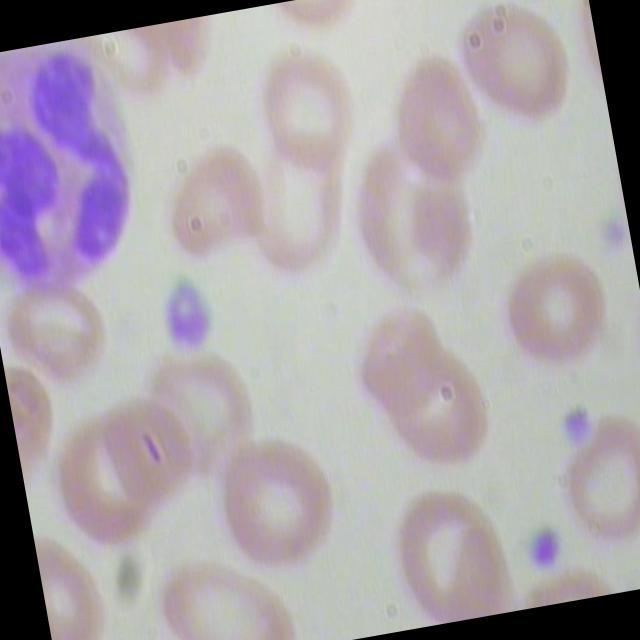Platelets: (147, 255, 232, 362), (516, 516, 576, 576), (544, 387, 598, 452)
RBC: (340, 134, 480, 313), (208, 418, 354, 582), (373, 478, 524, 632), (378, 50, 510, 202), (492, 240, 624, 384), (452, 0, 585, 142), (48, 406, 166, 562), (372, 343, 501, 484), (250, 45, 368, 186), (158, 140, 280, 276), (0, 276, 125, 401), (144, 548, 309, 640), (350, 314, 457, 432), (554, 408, 640, 553), (100, 394, 201, 516)
WBC: (0, 40, 160, 311)
